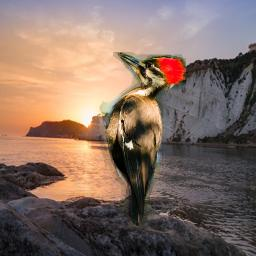Woodpecker: (97, 52, 186, 227)
